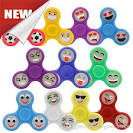fidget_spinner: (10, 43, 60, 90)
